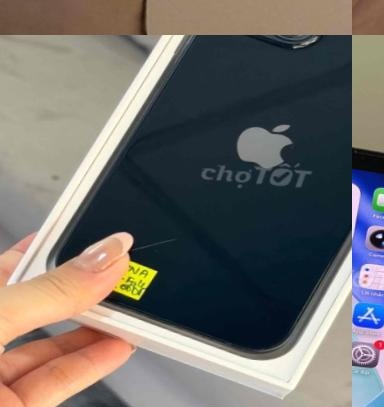scratch: (128, 233, 189, 264)
